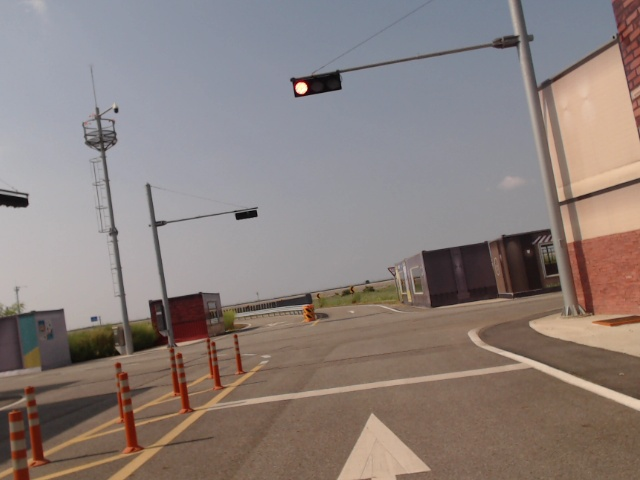red_3: (293, 70, 339, 98)
